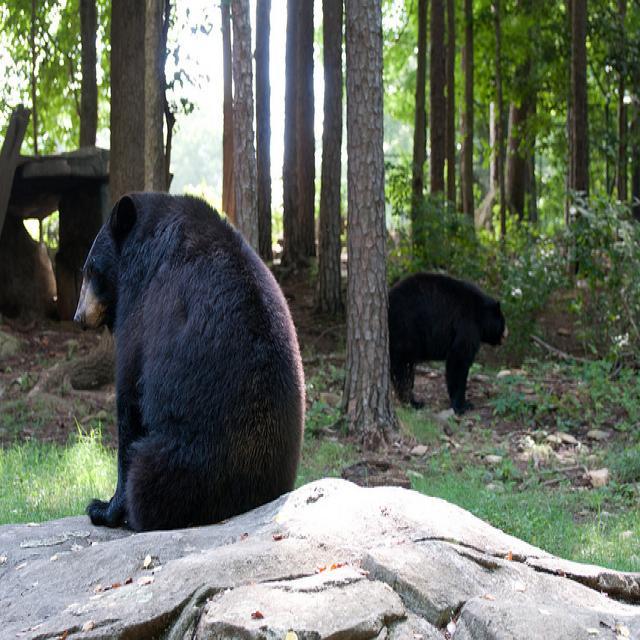Bear: (71, 177, 308, 547), (387, 255, 510, 402)
